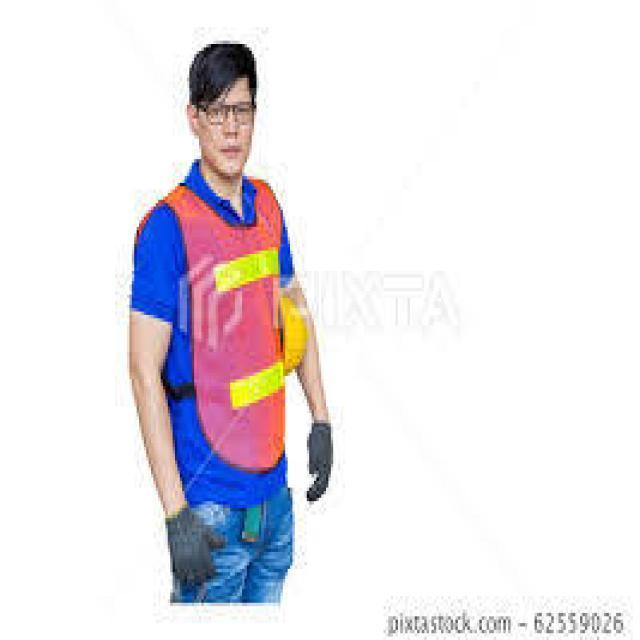safety_helmet: (132, 179, 285, 488)
